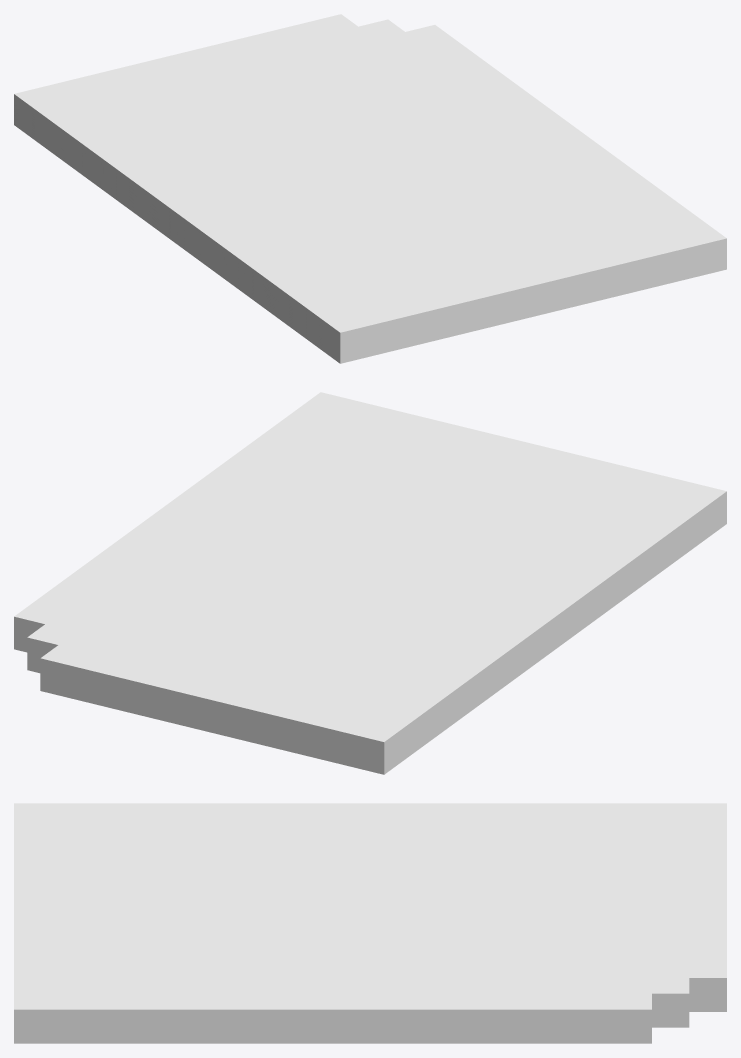
The model's file is Blankpaper.gltf.
The picture shows the model from 3 angles, top to bottom: view 1: azimuth 30°, elevation 25°; view 2: azimuth 150°, elevation 25°; view 3: azimuth 270°, elevation 25°; orthographic projection. The views are drawn at different scales.
Visible parts, largest first — view 1: Layer.1; view 2: Layer.1; view 3: Layer.1.
Boxes of the visible parts, x1,y1,x2,y2 form: Layer.1: (14,14,726,363); Layer.1: (14,392,726,774); Layer.1: (14,803,726,1043).
Size of the model in its own units: 13 by 1 by 19.
Materials: 1 (1 with a texture image).
